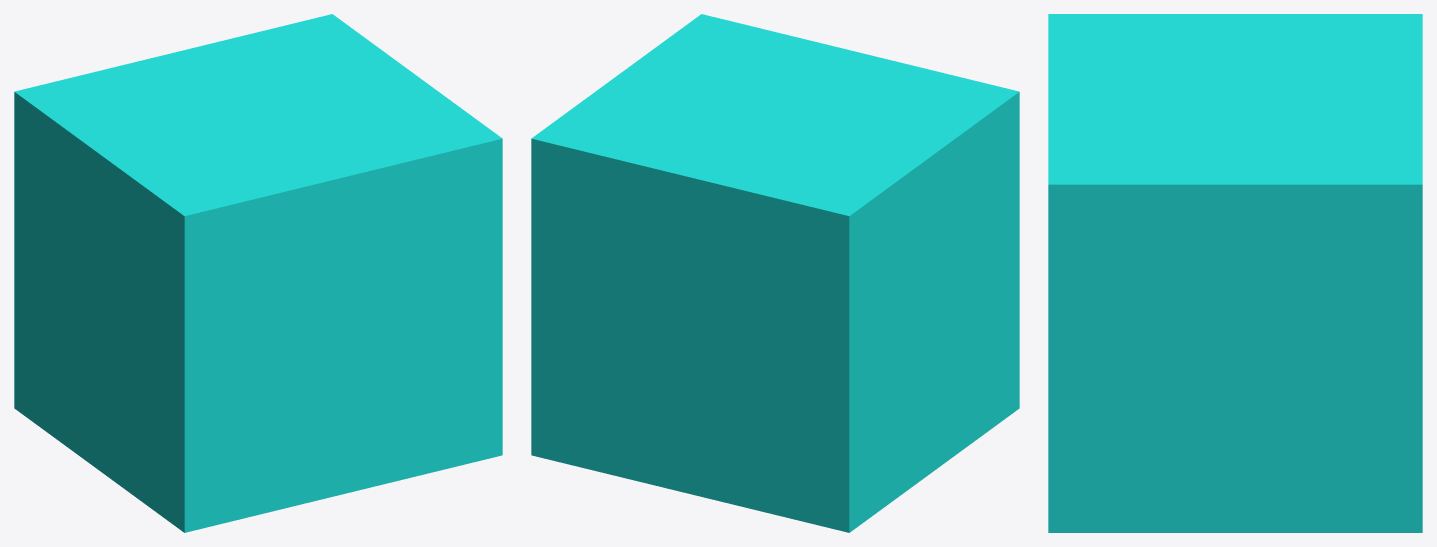
File: parcelSPXMY0087.glb
3 views of the same model, side by side, from view 1: azimuth 30°, elevation 25°; view 2: azimuth 150°, elevation 25°; view 3: azimuth 270°, elevation 25° (orthographic). The views are drawn at different scales.
Visible parts, largest first — view 1: color; view 2: color; view 3: color.
Boxes of the visible parts, <box> form: color: <box>14,14,502,532</box>; color: <box>531,14,1019,532</box>; color: <box>1048,14,1422,532</box>.
Size of the model in its own units: 0.41 by 0.39 by 0.38.
